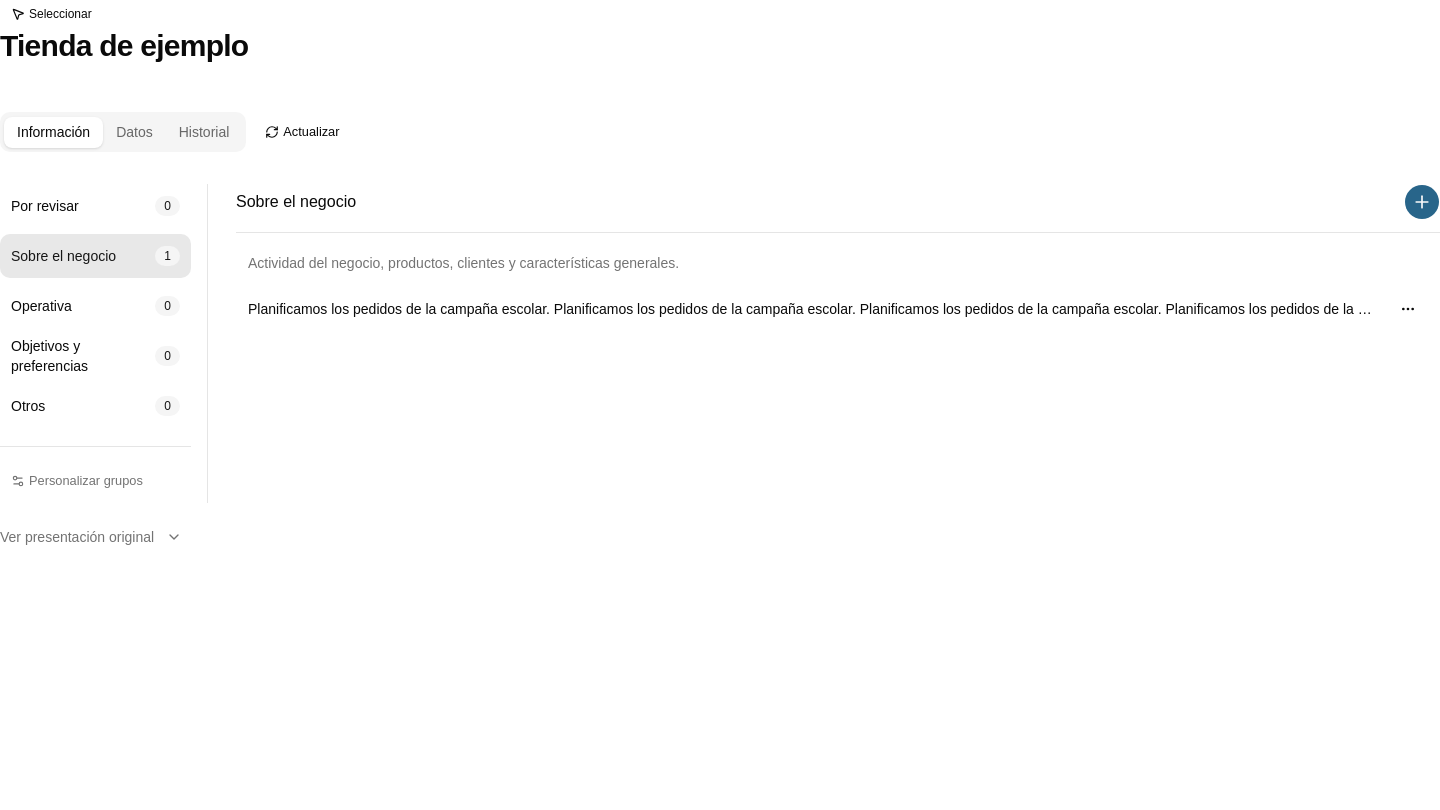
it: compact business dossier › opens the entire multiline information directly without writing and restores row focus
Expected: the tab "Información" is shown, [4,116,103,148]
Click the button with aria-label "Ver información:" at (812, 309), box [248,297,1376,321]
(page scrolled)
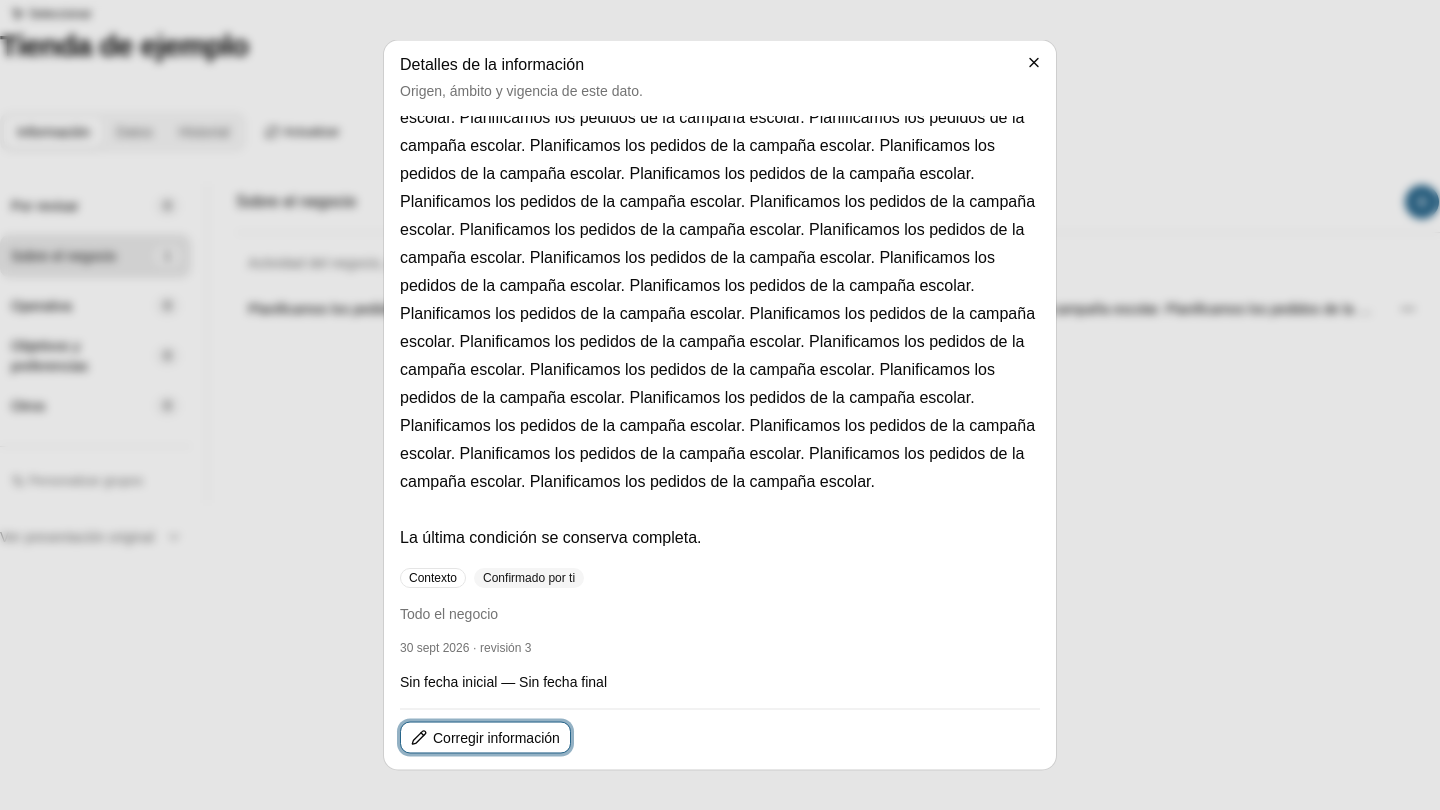
Expected: the text "30 sept 2026 · revisión 3" is shown, [400,642,531,656]
Press Escape
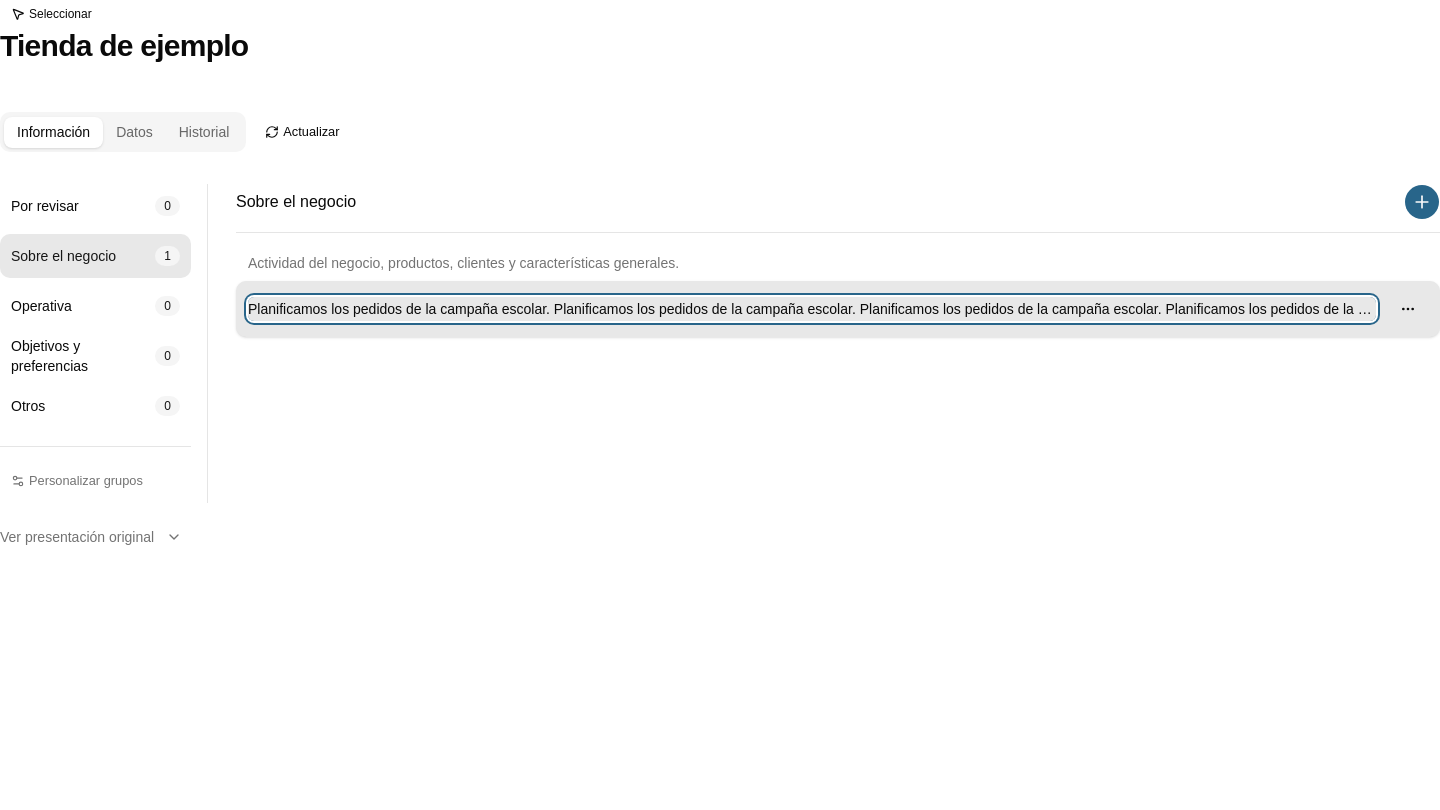
Expected: the dialog is gone
